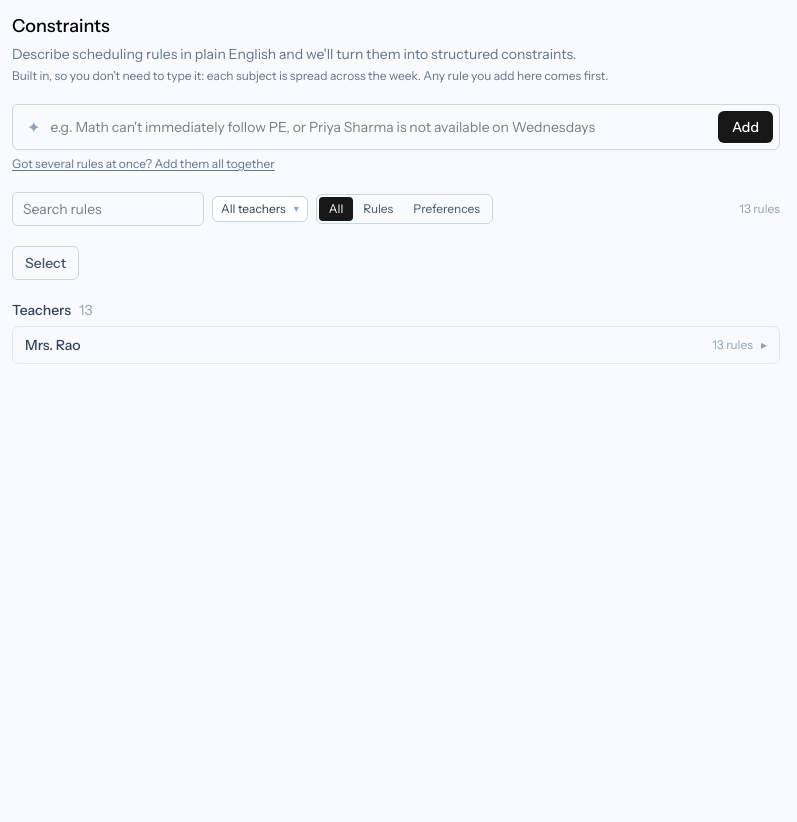
Test: the saved rules, grouped › starts a long list with its groups closed
This screenshot has width=797, height=822.
expect the text "Rule 0." is not shown: met
Click the button "Mrs. Rao 13 rules ▸": (53, 345) x1=13 y1=327 x2=779 y2=363
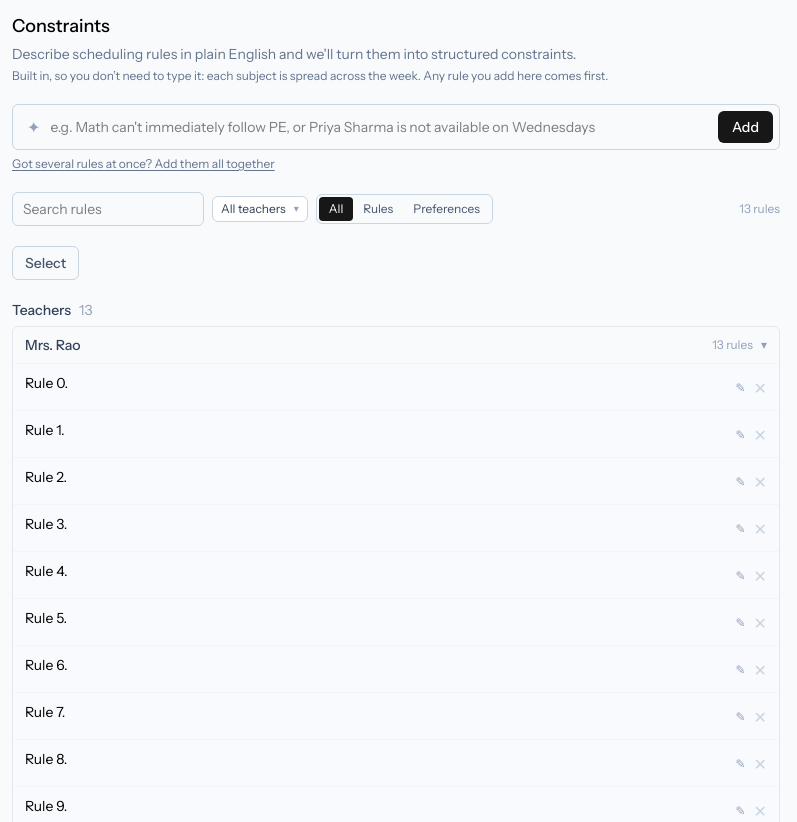
expect the text "Rule 0." is shown: met, box x1=25 y1=374 x2=68 y2=392
